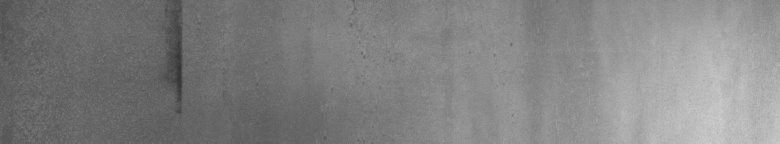hd: (161, 4, 189, 116)
